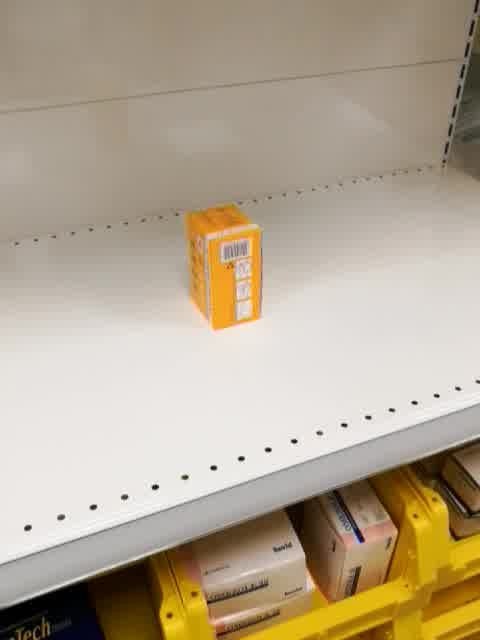jasminetea: (184, 203, 263, 331)
